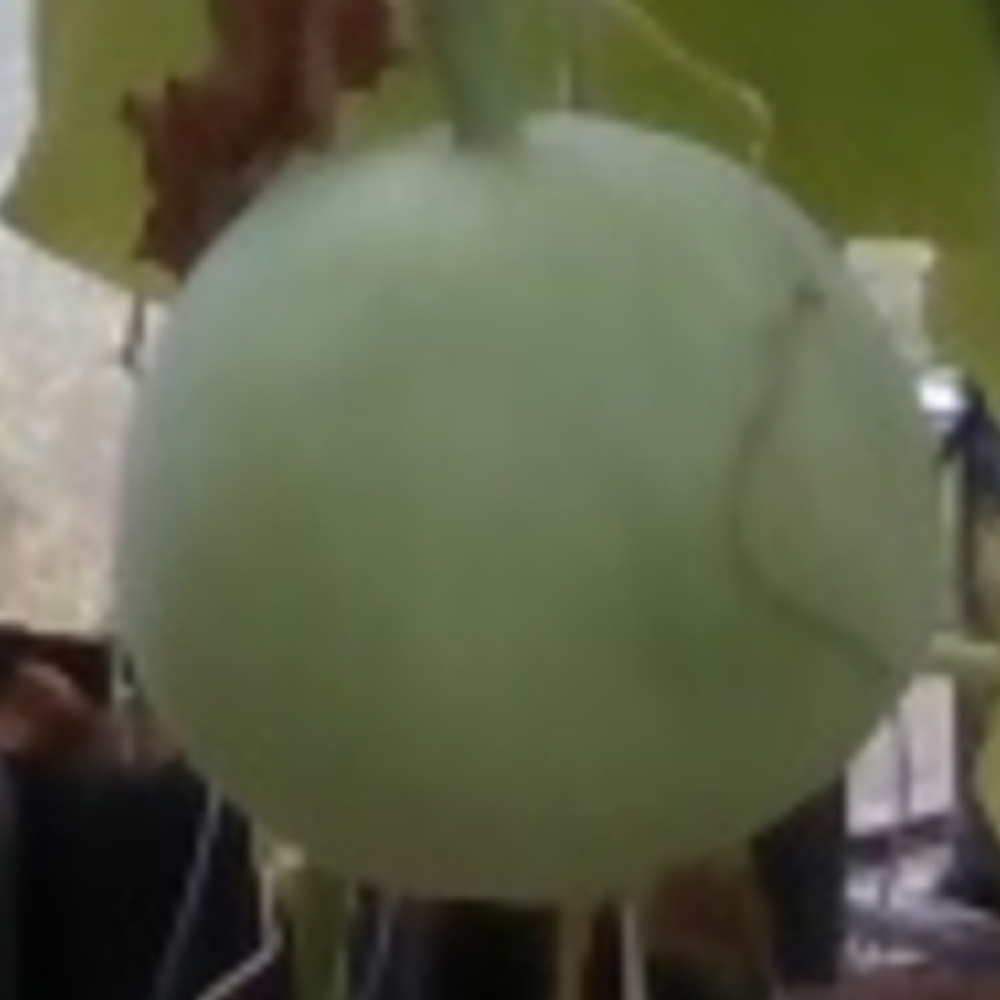melon: (111, 106, 949, 907)
